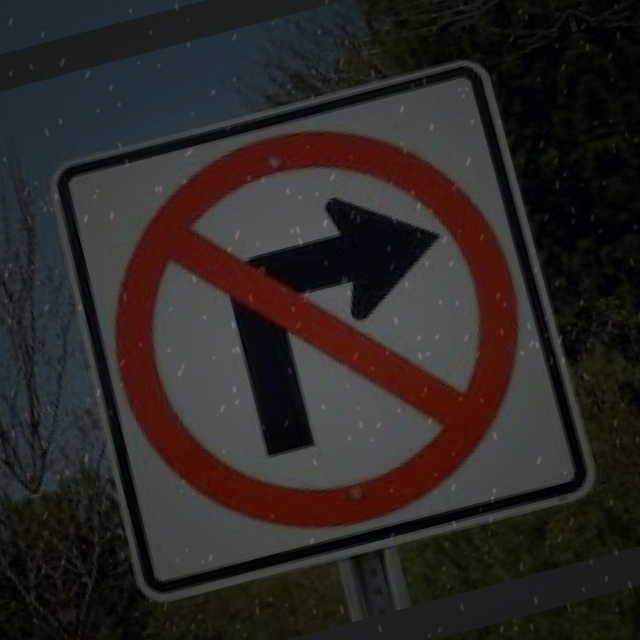Right_Turn_Prohibited: (63, 63, 570, 573)
